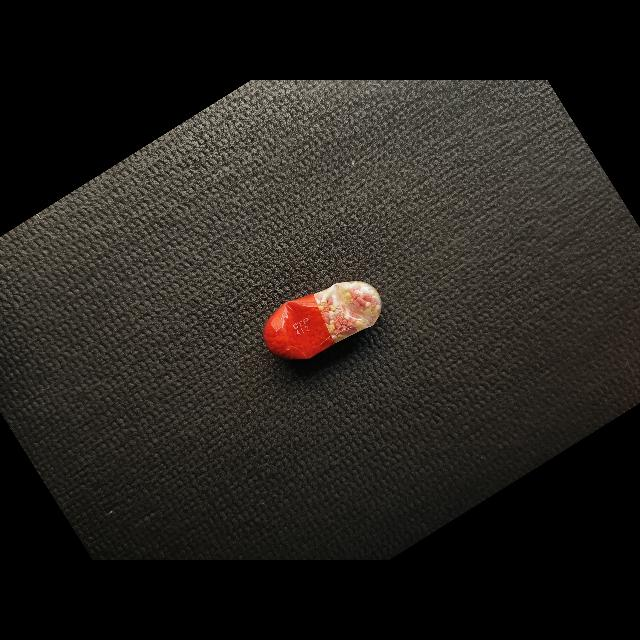Defective Capsule: (263, 281, 382, 360)
